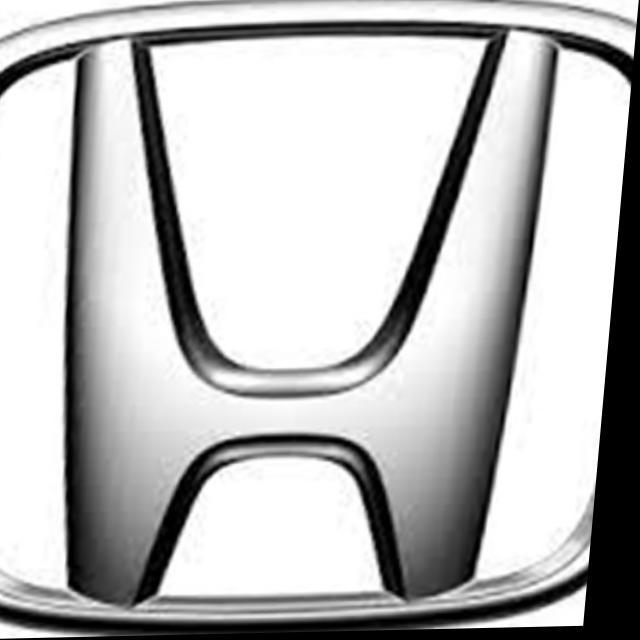honda: (0, 0, 640, 636)
